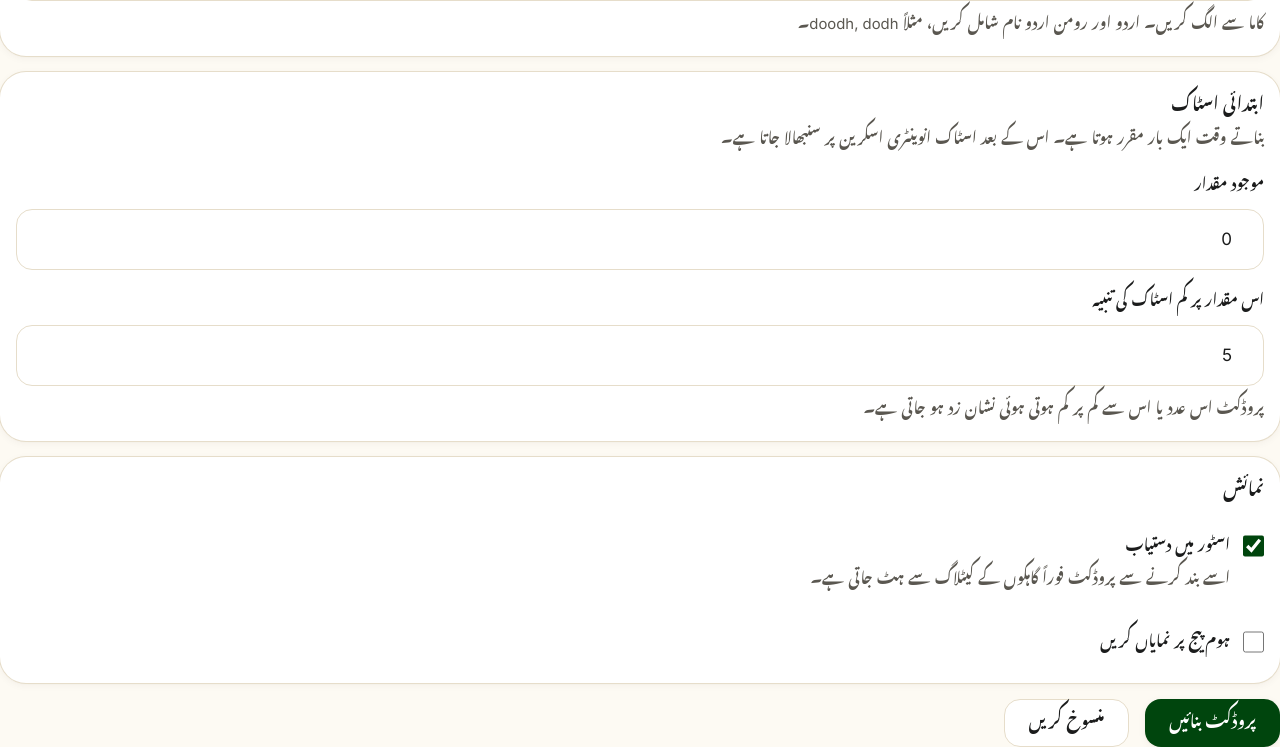
Test: the back office › reports a form mistake in Urdu
(page scrolled)
Click the button "پروڈکٹ بنائیں". click: (1213, 723)
box: [1145, 699, 1279, 746]
(page scrolled)
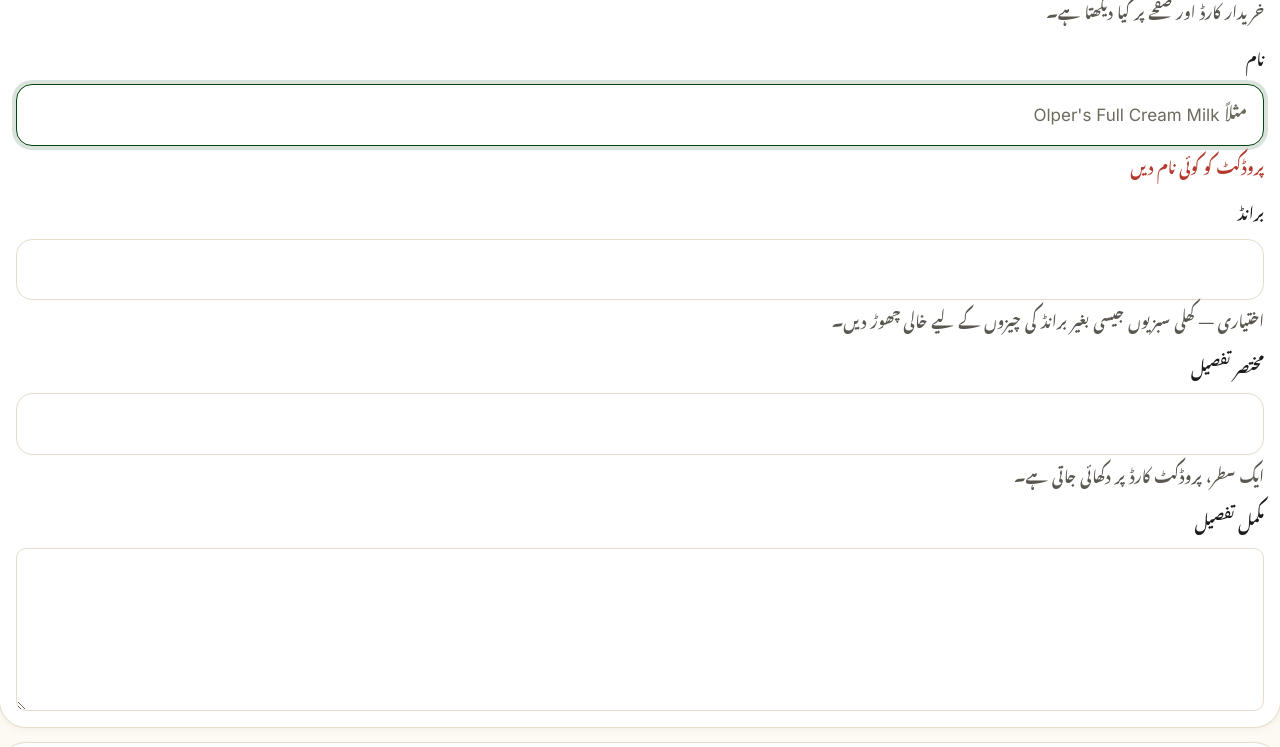
Expected: the text "پروڈکٹ کو کوئی نام دیں" is shown, [1130, 160, 1264, 178]
